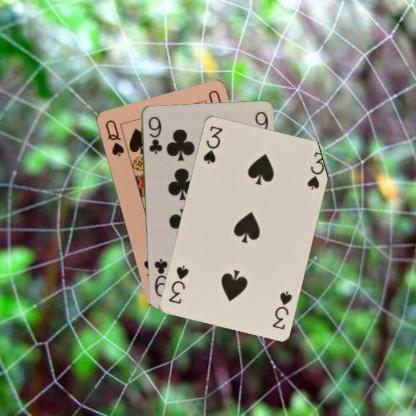3s: (269, 288, 294, 330), (200, 123, 224, 165)
9c: (146, 113, 164, 155)
Qs: (102, 116, 126, 158)
